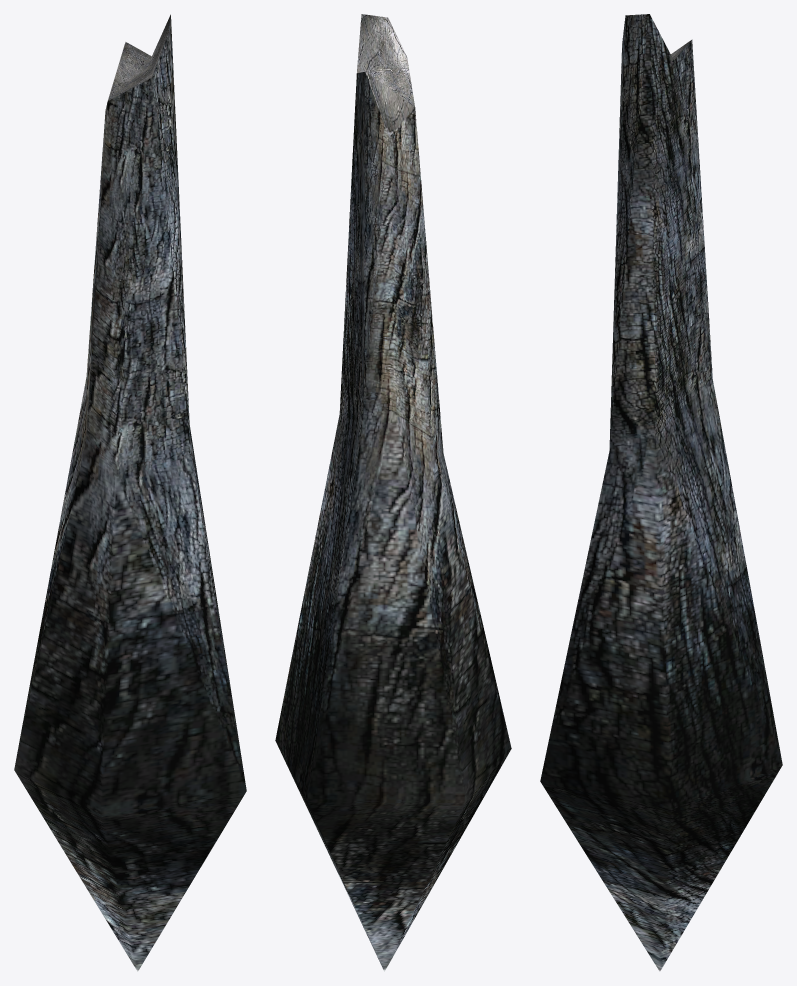
File: decd_scorched_massassi_broke_l2.fbx
3 renders of one model, left to right at view 1: azimuth 30°, elevation 25°; view 2: azimuth 150°, elevation 25°; view 3: azimuth 270°, elevation 25°, orthographic. The views are drawn at different scales.
Visible parts, largest first — view 1: mesh_node; view 2: mesh_node; view 3: mesh_node.
Part boxes in pixels (box(x1,y1,x2,y2)): mesh_node: box(14, 14, 246, 971); mesh_node: box(275, 14, 511, 971); mesh_node: box(540, 14, 782, 971).
Bounding box in the file's own units: 10.91 × 48.04 × 10.86.
Materials: 3 (3 with a texture image).
